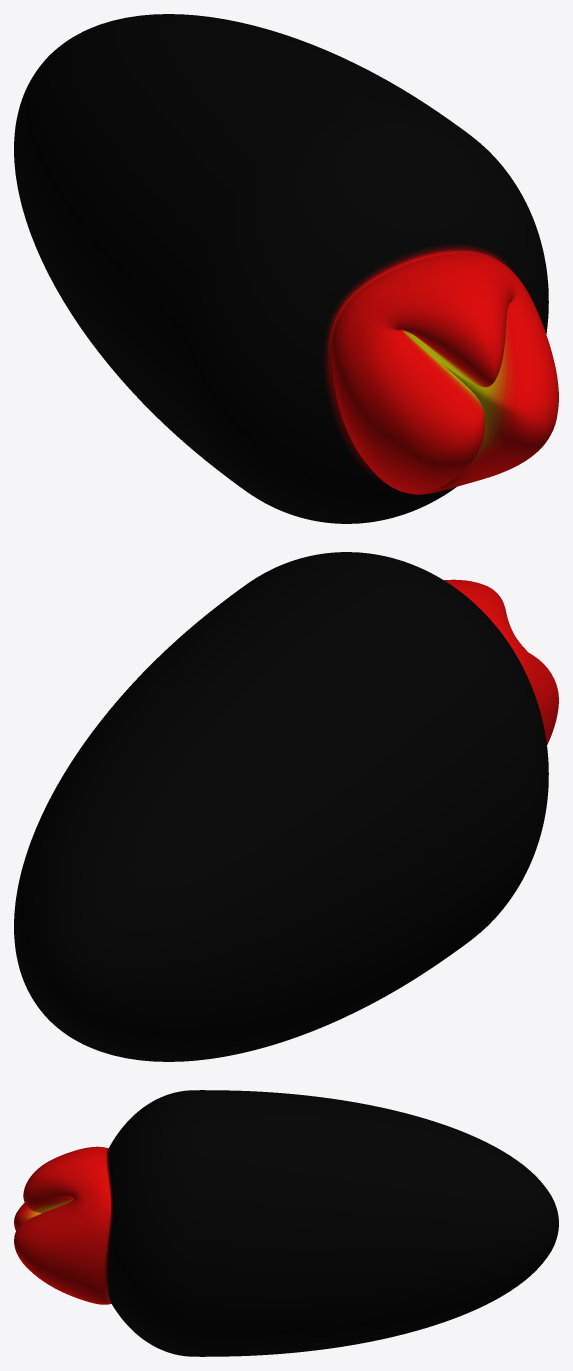
The model's file is Poche_Oeuf_Bulbe.fbx.
The picture shows the model from 3 angles, top to bottom: view 1: azimuth 30°, elevation 25°; view 2: azimuth 150°, elevation 25°; view 3: azimuth 270°, elevation 25°; orthographic projection. The views are drawn at different scales.
Parts seen in each view (by area): view 1: Poche_Oeuf_Bulbe; view 2: Poche_Oeuf_Bulbe; view 3: Poche_Oeuf_Bulbe.
Boxes of the visible parts, x1,y1,x2,y2 form: Poche_Oeuf_Bulbe: (14, 14, 558, 523); Poche_Oeuf_Bulbe: (14, 552, 558, 1061); Poche_Oeuf_Bulbe: (14, 1090, 558, 1356).
Size of the model in its own units: 0.1239 by 0.1359 by 0.2734.
